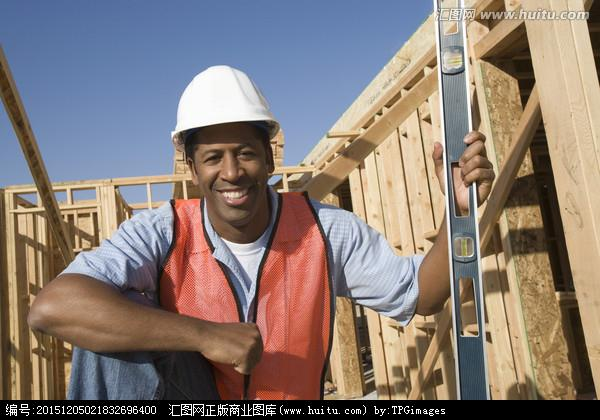helmet: (174, 64, 284, 142)
